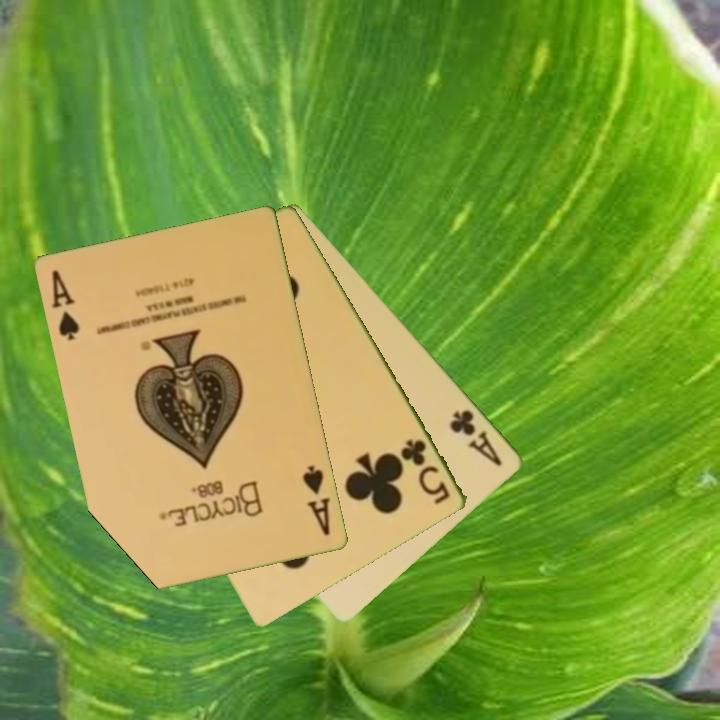5c: (397, 435, 454, 508)
Ac: (446, 406, 506, 470)
As: (299, 462, 334, 539), (49, 267, 83, 344)
